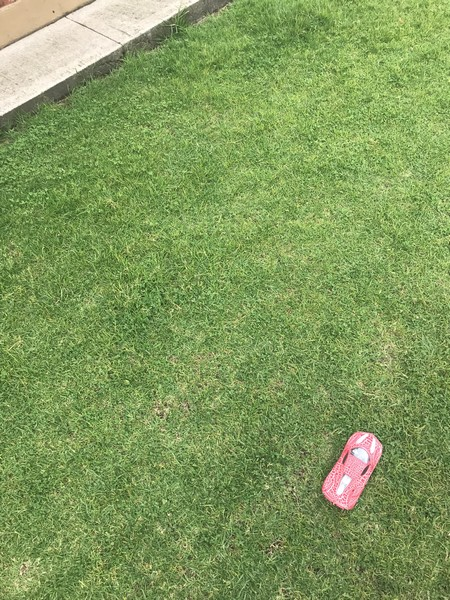RC: (321, 430, 387, 511)
